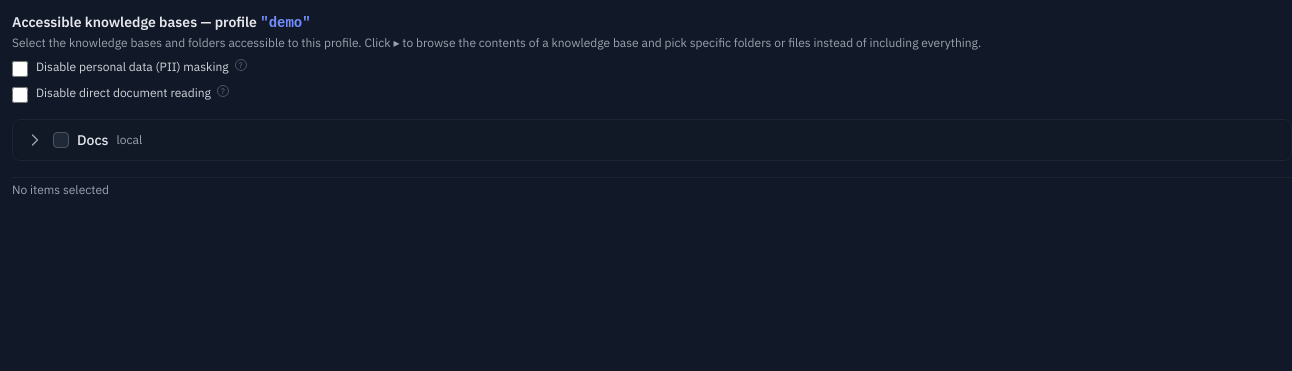
Test: RagAccessSelector — folders loaded on demand › checking a whole source before expanding it includes all its folders and descendants
Click the checkbox named "Include source Docs" at (61, 140), box [53, 132, 69, 148]
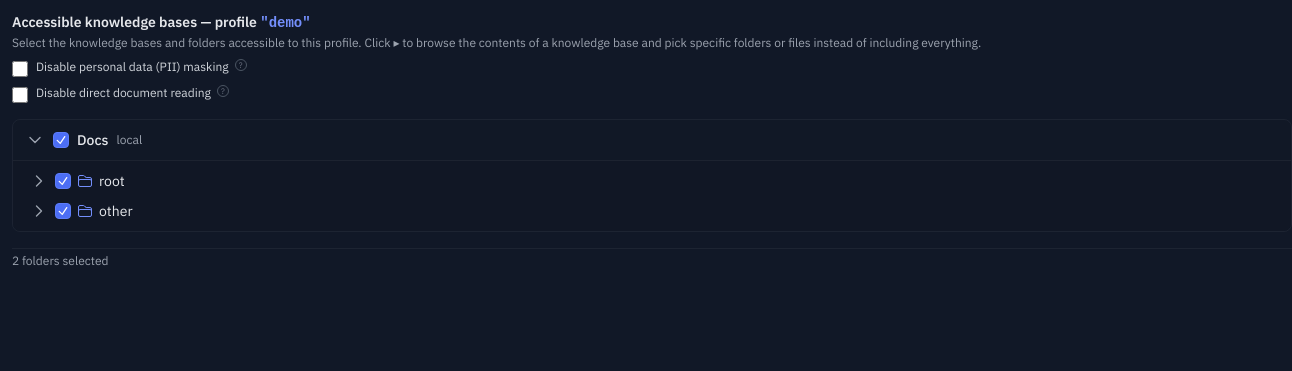
Click the 1st button named "Expand" at (39, 181), box [29, 171, 49, 191]
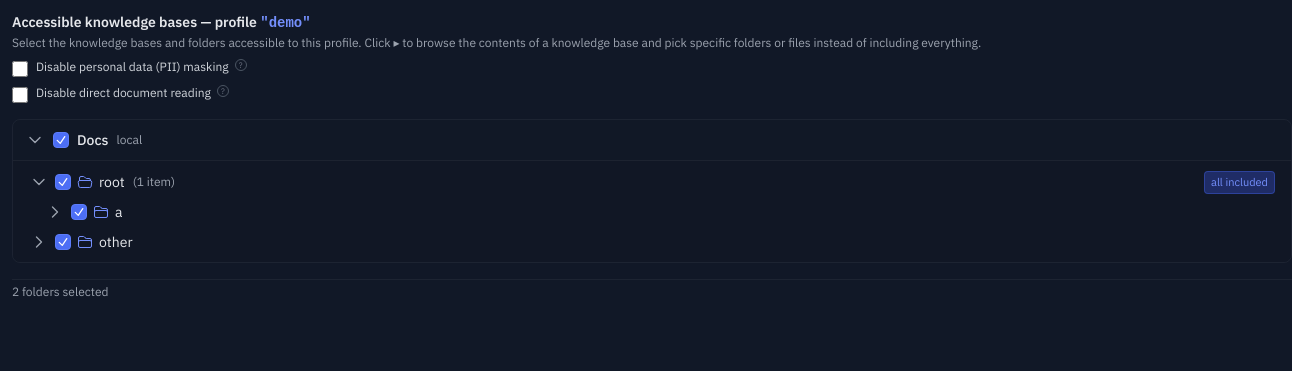
Click the 1st button named "Expand" at (55, 212), box [45, 202, 65, 222]
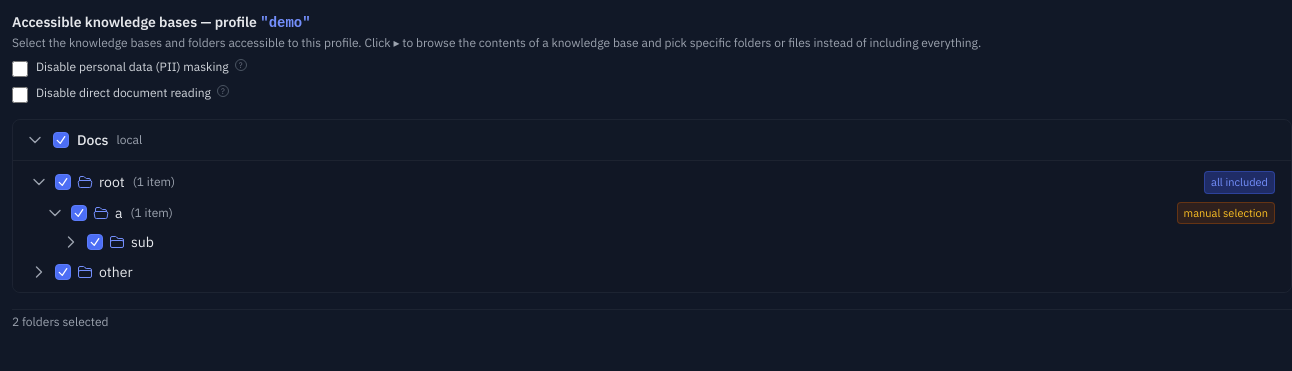
Click the 1st button named "Expand" at (71, 242), box [61, 232, 81, 252]
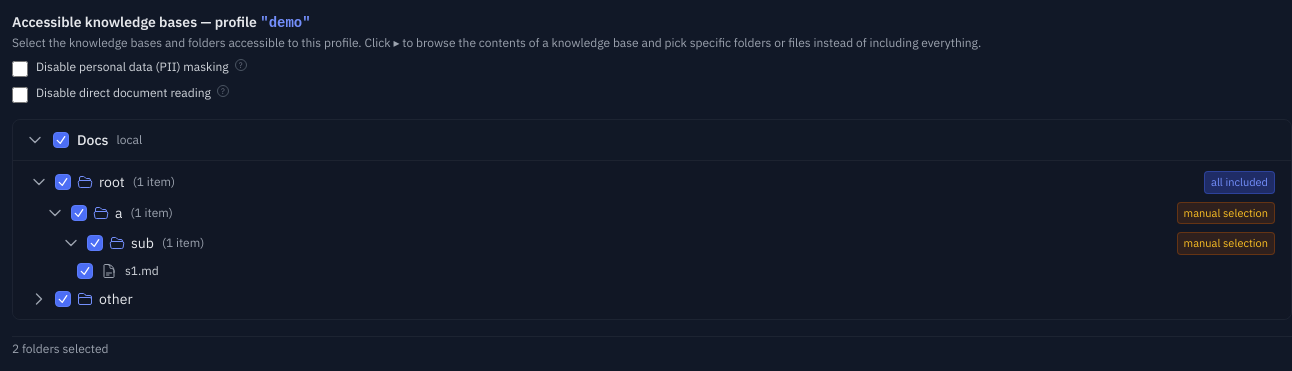
Expected: the text "s1.md" is shown, [125, 262, 159, 278]
